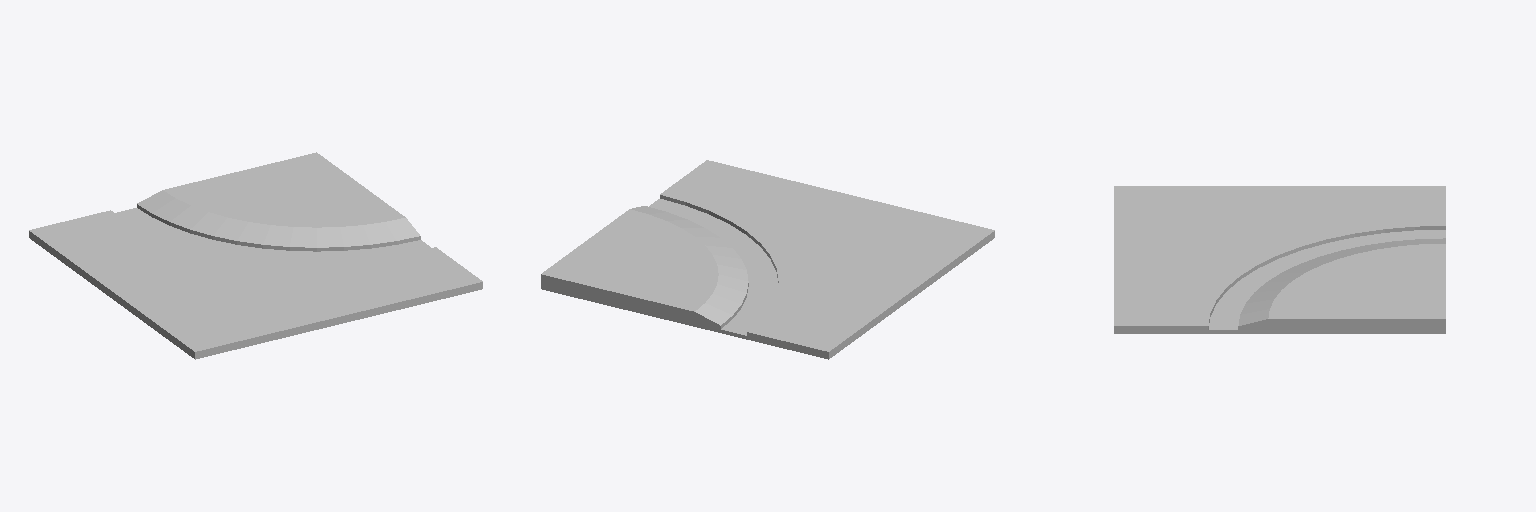
File: roadCorner.obj
3 views of the same model, side by side, from view 1: azimuth 30°, elevation 25°; view 2: azimuth 150°, elevation 25°; view 3: azimuth 270°, elevation 25° (orthographic).
Parts seen in each view (by area): view 1: roadCorner; view 2: roadCorner; view 3: roadCorner.
Boxes of the visible parts, x1,y1,x2,y2 form: roadCorner: [29, 152, 482, 359]; roadCorner: [541, 160, 994, 359]; roadCorner: [1114, 186, 1445, 333].
Size of the model in its own units: 1 by 0.05 by 1.